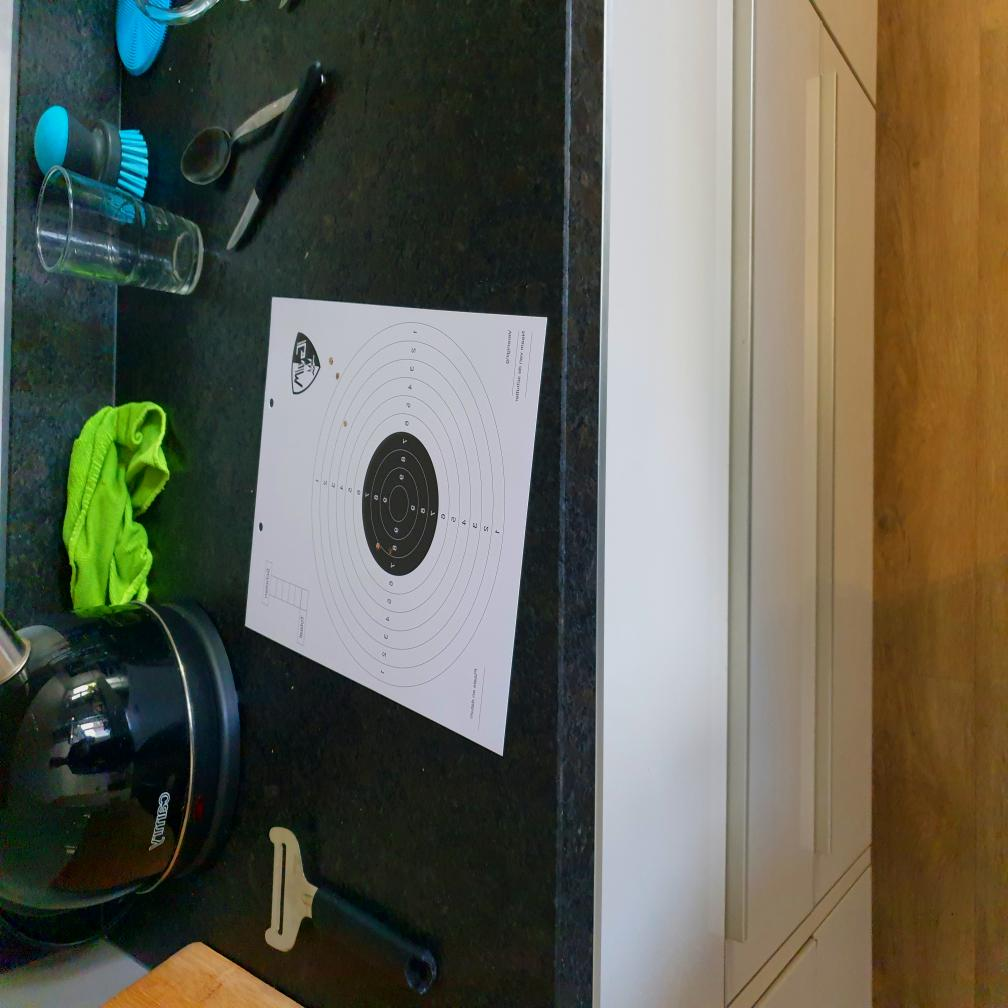0: (329, 357, 333, 365), (336, 372, 339, 380)
3: (343, 420, 348, 428)
8: (376, 541, 381, 551), (388, 547, 393, 556)
Target: (311, 322, 508, 692)
black_contour: (362, 433, 439, 576)
